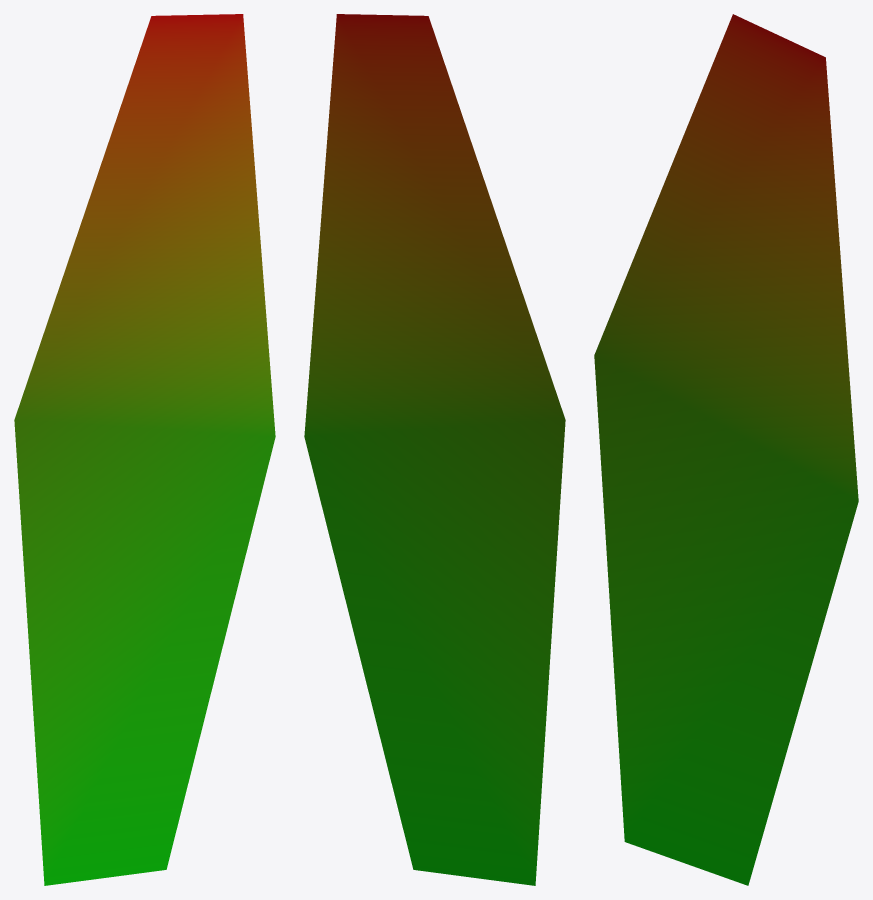
The model's file is Sunflower_LOD3_Var1.fbx.
3 views of the same model, side by side, from view 1: azimuth 30°, elevation 25°; view 2: azimuth 150°, elevation 25°; view 3: azimuth 330°, elevation 25° (orthographic).
Parts seen in each view (by area): view 1: _c123_Var1_LOD3; view 2: _c123_Var1_LOD3; view 3: _c123_Var1_LOD3.
Boxes of the visible parts, bbox=[...] form: _c123_Var1_LOD3: bbox=[14, 14, 275, 885]; _c123_Var1_LOD3: bbox=[304, 14, 565, 885]; _c123_Var1_LOD3: bbox=[594, 14, 858, 885].
Size of the model in its own units: 47.19 by 148 by 7.63e-06.
